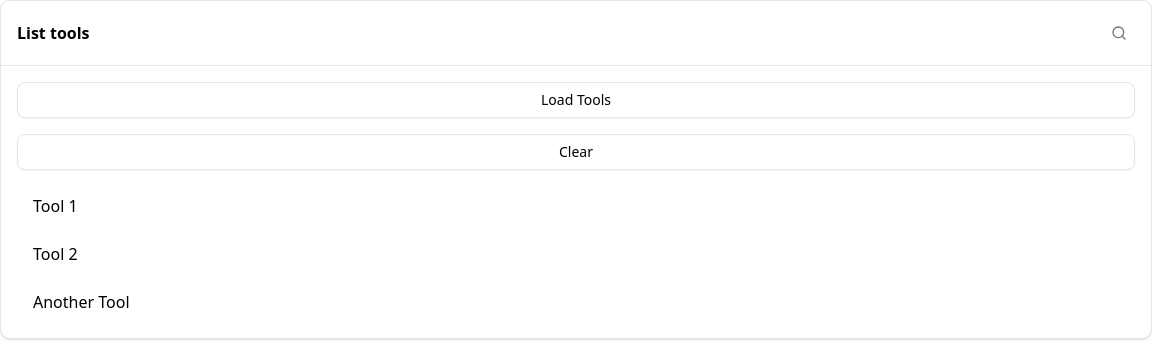
Test: ListPane › Search Functionality › should expand search input when search icon is clicked
The width and height of the screenshot is (1152, 361).
Click the button named "Search" at (1119, 33), box top-left (1103, 17), bottom-right (1135, 49)
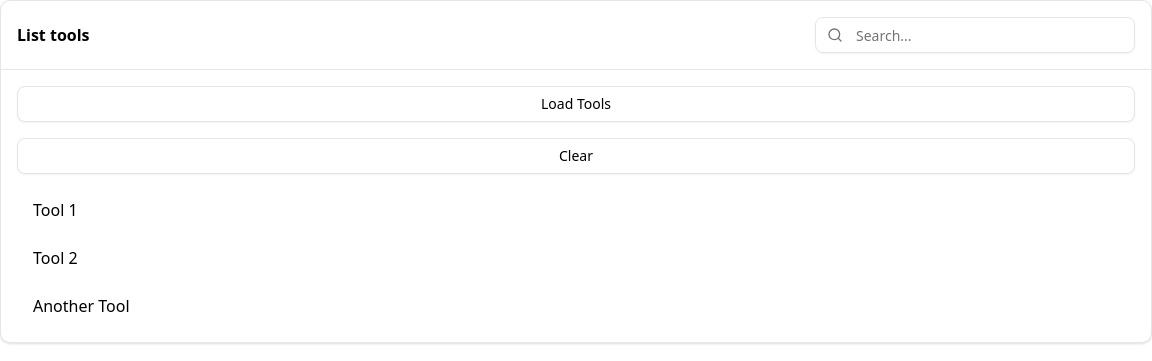
expect the field with placeholder "Search..." is shown: met, box top-left (815, 17), bottom-right (1135, 53)
